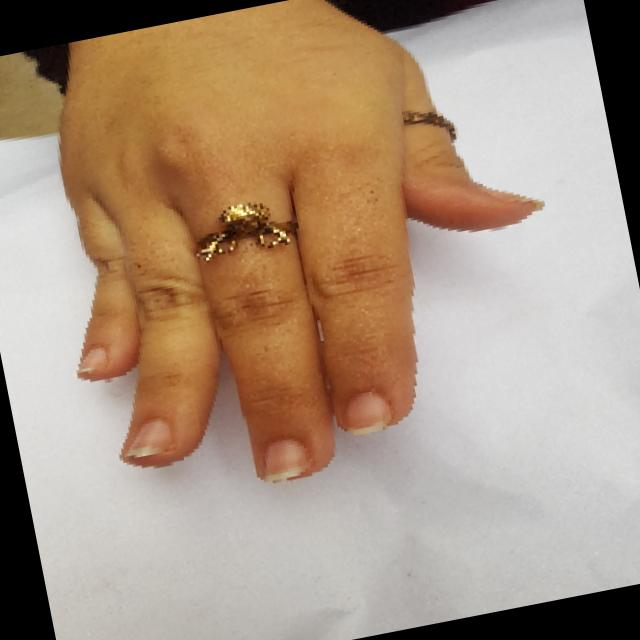Nail: (345, 391, 391, 435), (266, 439, 310, 482), (126, 422, 173, 458), (481, 185, 544, 203), (77, 349, 107, 373)
